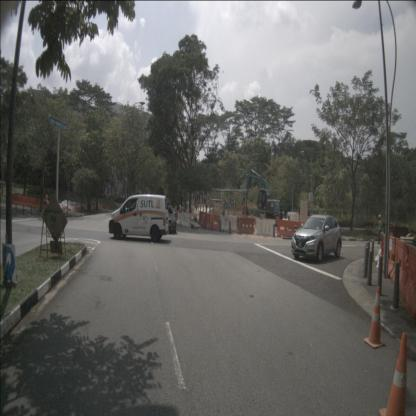barrier: (200, 209, 276, 238), (381, 234, 415, 296), (278, 217, 309, 239), (12, 193, 48, 208), (178, 210, 192, 228)
cone: (376, 328, 410, 416), (364, 283, 388, 358)
